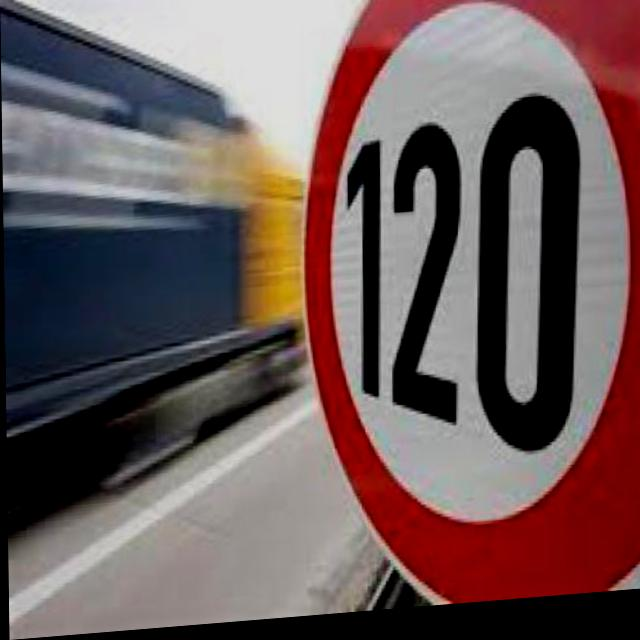limit120: (288, 0, 640, 622)
